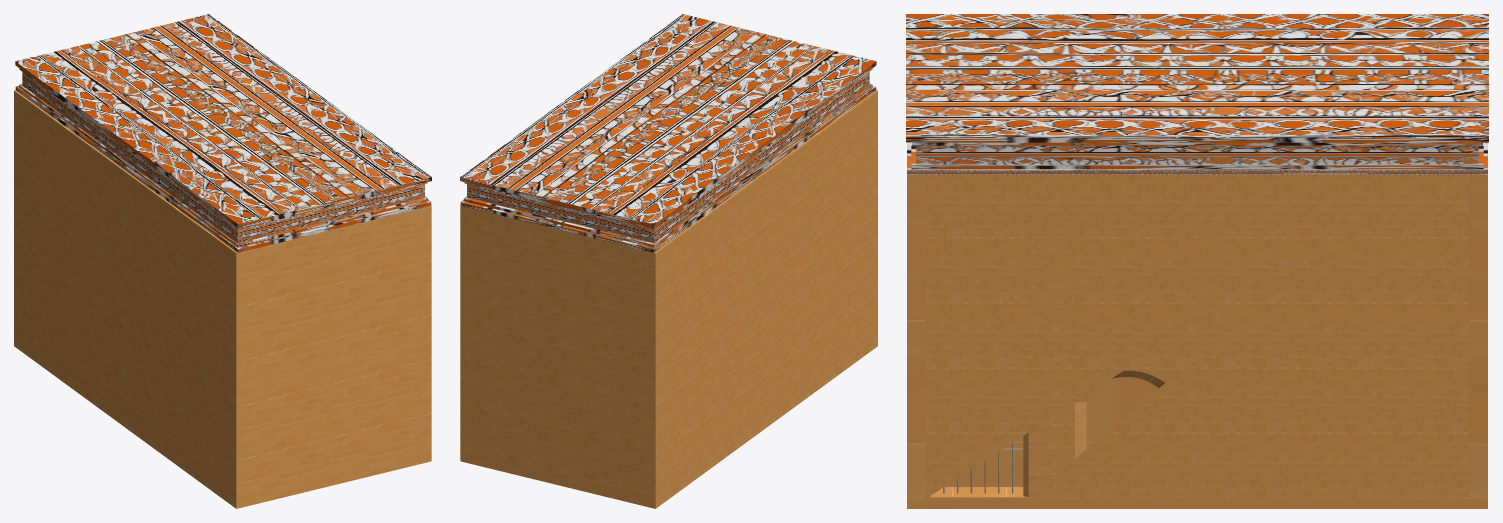
Rendered from Another building fin.fbx.
3 views of the same model, side by side, from view 1: azimuth 30°, elevation 25°; view 2: azimuth 150°, elevation 25°; view 3: azimuth 270°, elevation 25° (orthographic). The views are drawn at different scales.
Parts seen in each view (by area): view 1: Cube, Cube.001; view 2: Cube, Cube.001; view 3: Cube, Cube.001.
Boxes of the visible parts, x1,y1,x2,y2 form: Cube: (14, 90, 431, 508); Cube.001: (15, 14, 431, 252); Cube: (460, 90, 877, 508); Cube.001: (460, 14, 876, 252); Cube: (907, 174, 1487, 508); Cube.001: (906, 14, 1488, 174).
Bounding box in the file's own units: 398 × 554 × 787.
